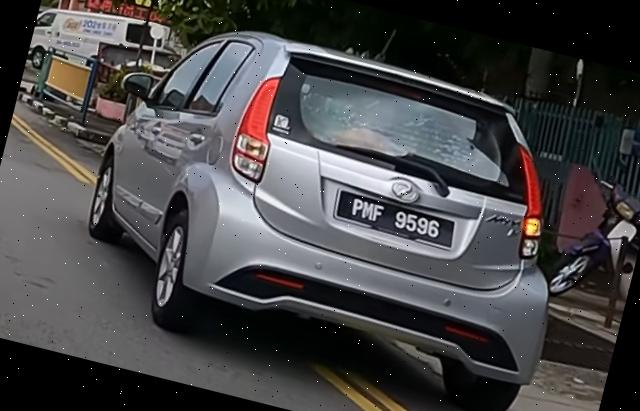License_Plate: (331, 186, 463, 251)
car: (62, 1, 602, 411)
